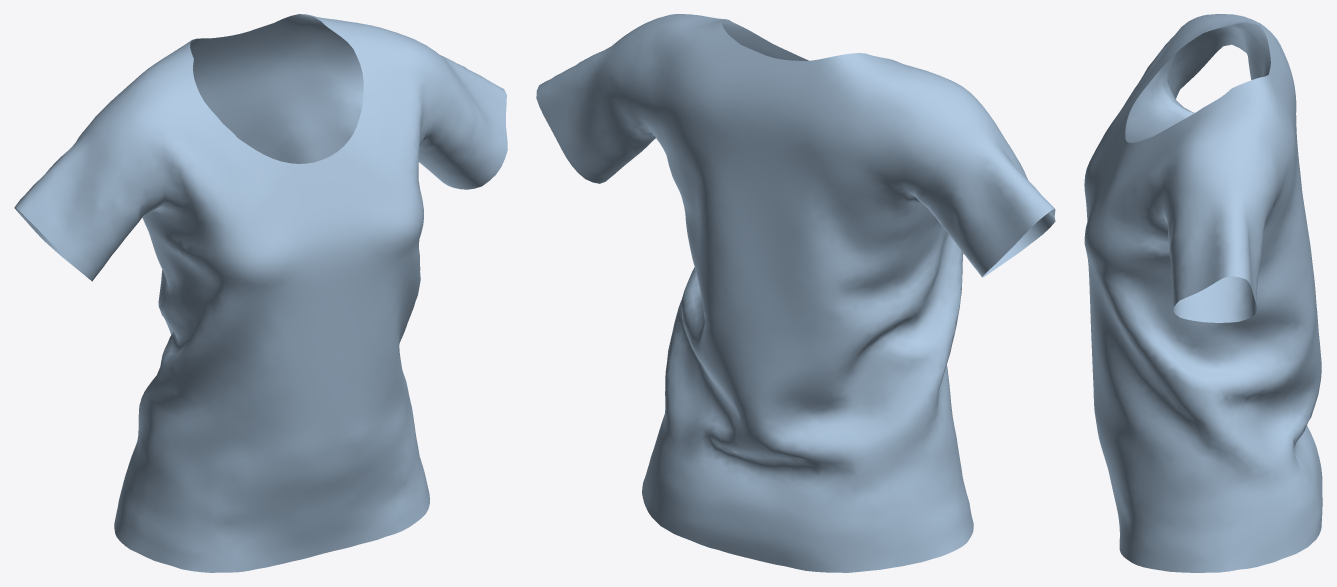
Rendered from tee_S.glb.
3 renders of one model, left to right at view 1: azimuth 30°, elevation 25°; view 2: azimuth 150°, elevation 25°; view 3: azimuth 270°, elevation 25°, orthographic. The views are drawn at different scales.
Parts seen in each view (by area): view 1: geometry_0; view 2: geometry_0; view 3: geometry_0.
Boxes of the visible parts, x1,y1,x2,y2 form: geometry_0: (14,14,507,572); geometry_0: (536,14,1055,572); geometry_0: (1084,14,1322,572).
Bounding box in the file's own units: 0.6111 × 0.571 × 0.2652.
